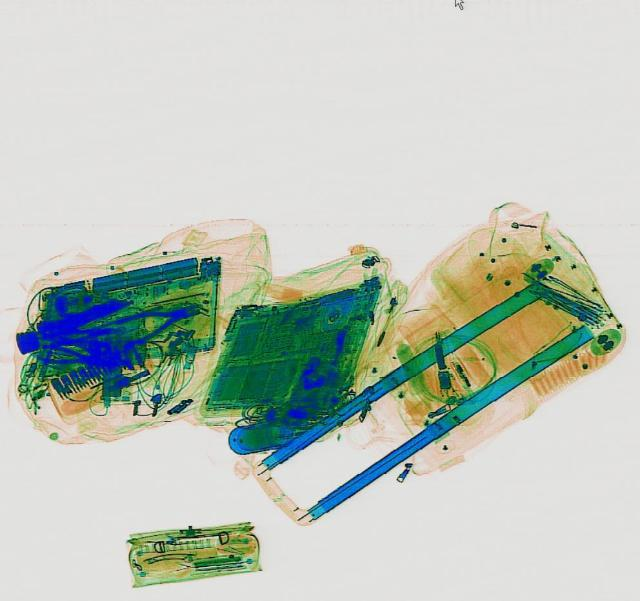Pliers: (110, 295, 204, 346), (35, 341, 101, 368)
